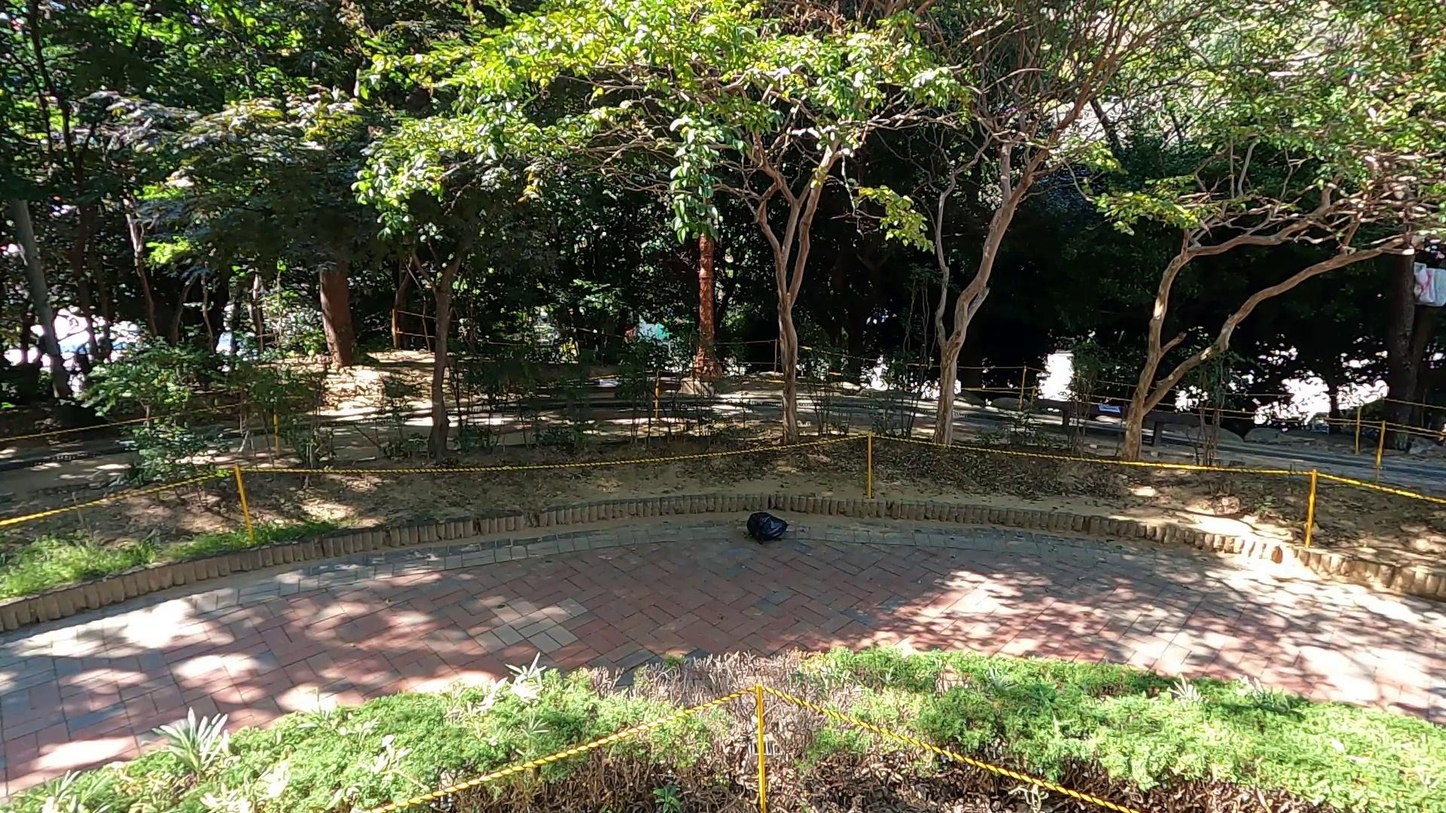trash: (744, 515, 790, 545)
